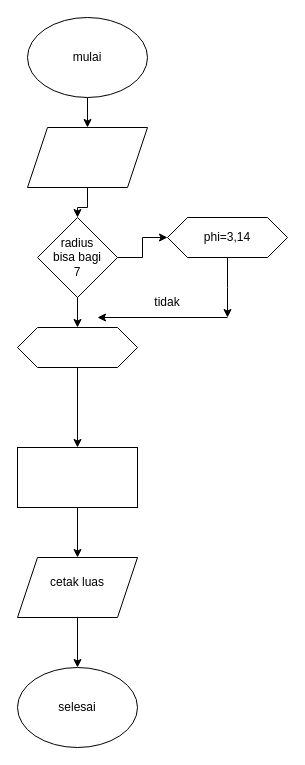
Some shapes in this 305 by 765 pixel diagram are drawn without their labels. Here are the shapes that lost their labels. From the top down, the centre of each, then its label:
At point 87,157: "input diameter".
At point 77,347: "phi=2/7".
At point 77,477: "luas".
